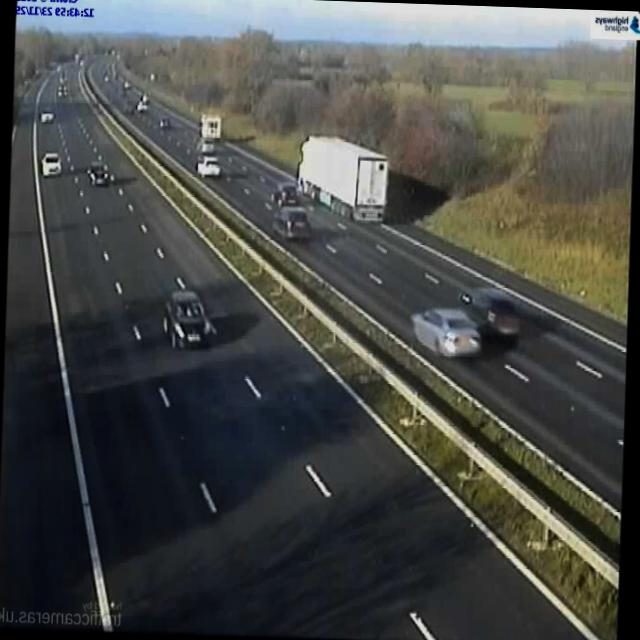foliage: (253, 79, 484, 193), (163, 28, 279, 114), (537, 101, 634, 202)
